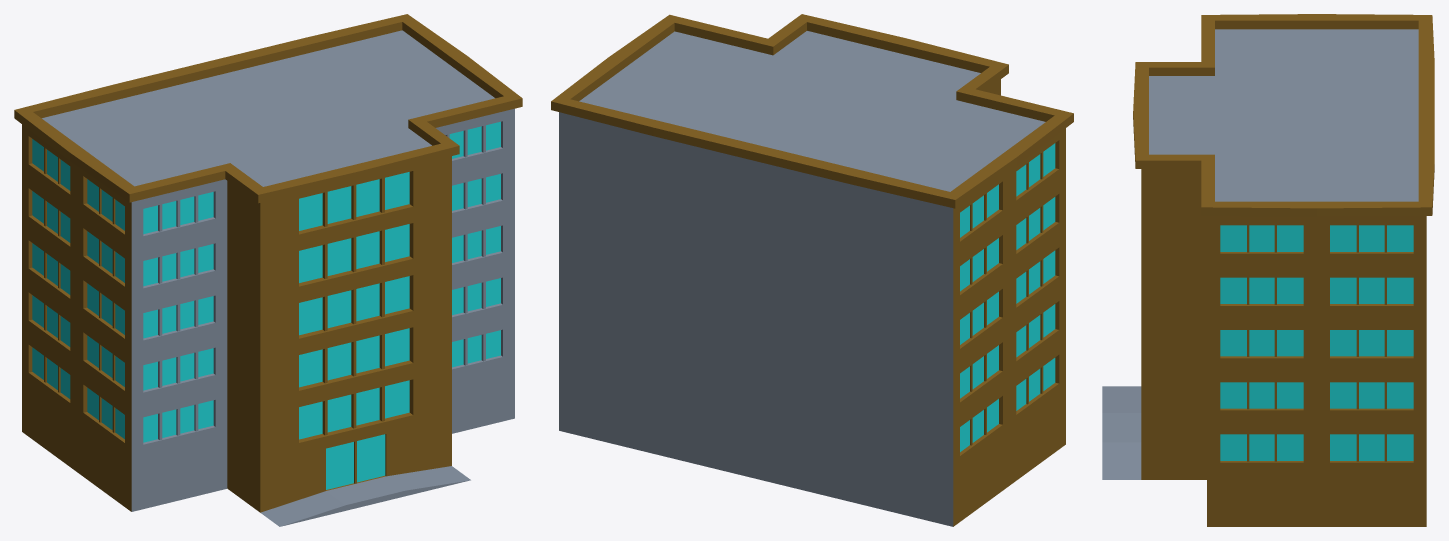
Rendered from Building1_2.fbx.
3 views of the same model, side by side, from view 1: azimuth 30°, elevation 25°; view 2: azimuth 150°, elevation 25°; view 3: azimuth 270°, elevation 25° (orthographic). The views are drawn at different scales.
Parts seen in each view (by area): view 1: Building1_2; view 2: Building1_2; view 3: Building1_2.
Part boxes in pixels (bbox=[...]): Building1_2: bbox=[14, 14, 522, 526]; Building1_2: bbox=[551, 14, 1073, 526]; Building1_2: bbox=[1102, 14, 1434, 526].
Bounding box in the file's own units: 3202 × 2473 × 2315.
